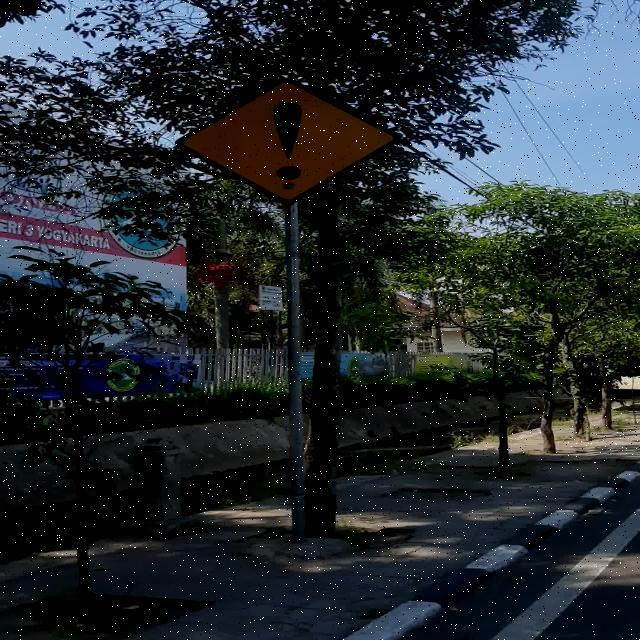Hati-Hati: (176, 79, 399, 205)
